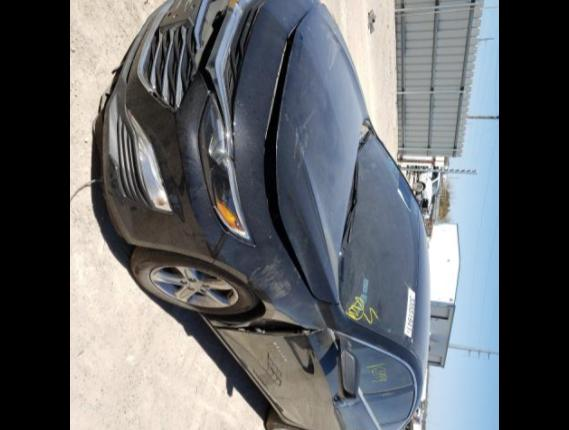Broken part: (204, 0, 354, 340), (136, 0, 229, 114)
Dent: (208, 300, 318, 334)
Missing part: (160, 0, 197, 26)
Scratch: (266, 350, 282, 376)
